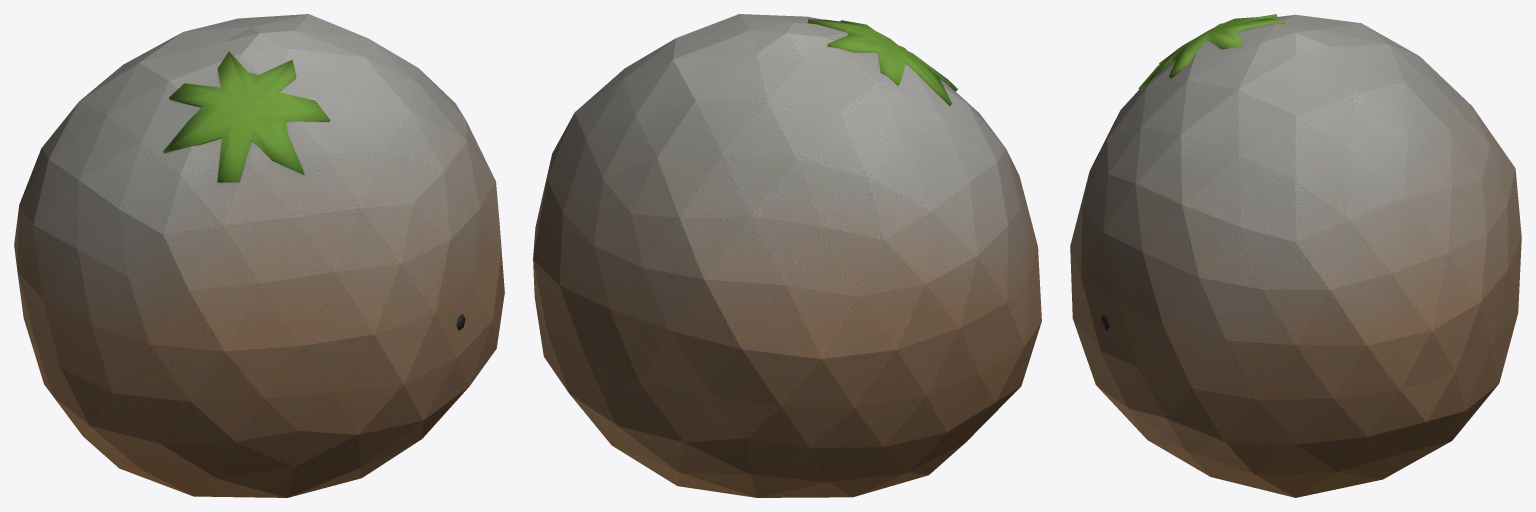
File: rock_3_high.glb
3 views of the same model, side by side, from view 1: azimuth 30°, elevation 25°; view 2: azimuth 150°, elevation 25°; view 3: azimuth 270°, elevation 25° (orthographic). The views are drawn at different scales.
Parts seen in each view (by area): view 1: rock_3; view 2: rock_3; view 3: rock_3.
Part boxes in pixels (<box>): rock_3: <box>14,14,504,497</box>; rock_3: <box>533,14,1041,497</box>; rock_3: <box>1070,14,1521,497</box>.
Bounding box in the file's own units: 0.6381 × 0.5972 × 0.5836.
1 material, 1 textured.
